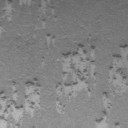oxide scale of temperature system: (55, 43, 96, 100), (0, 78, 41, 128), (108, 44, 128, 93), (94, 92, 114, 128), (2, 0, 14, 21), (56, 98, 66, 114), (46, 32, 55, 45), (38, 0, 46, 14), (114, 122, 120, 128), (42, 18, 46, 24)
